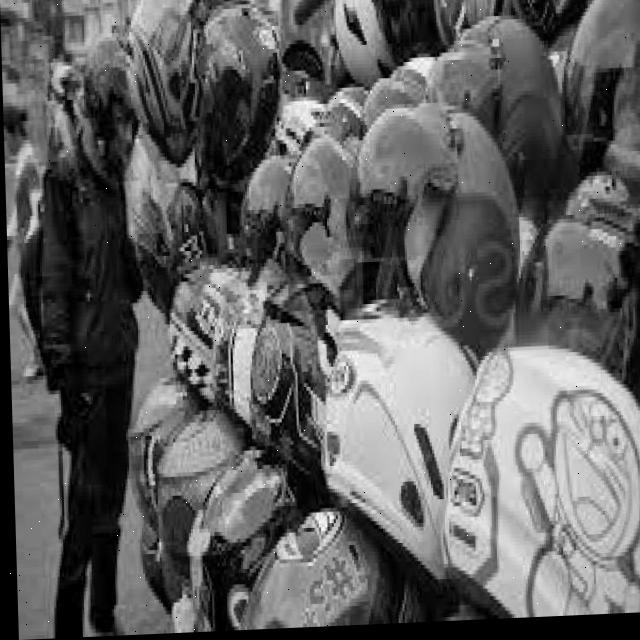Helmet: (436, 348, 640, 625), (304, 308, 485, 588), (188, 3, 289, 213), (124, 0, 215, 163)
